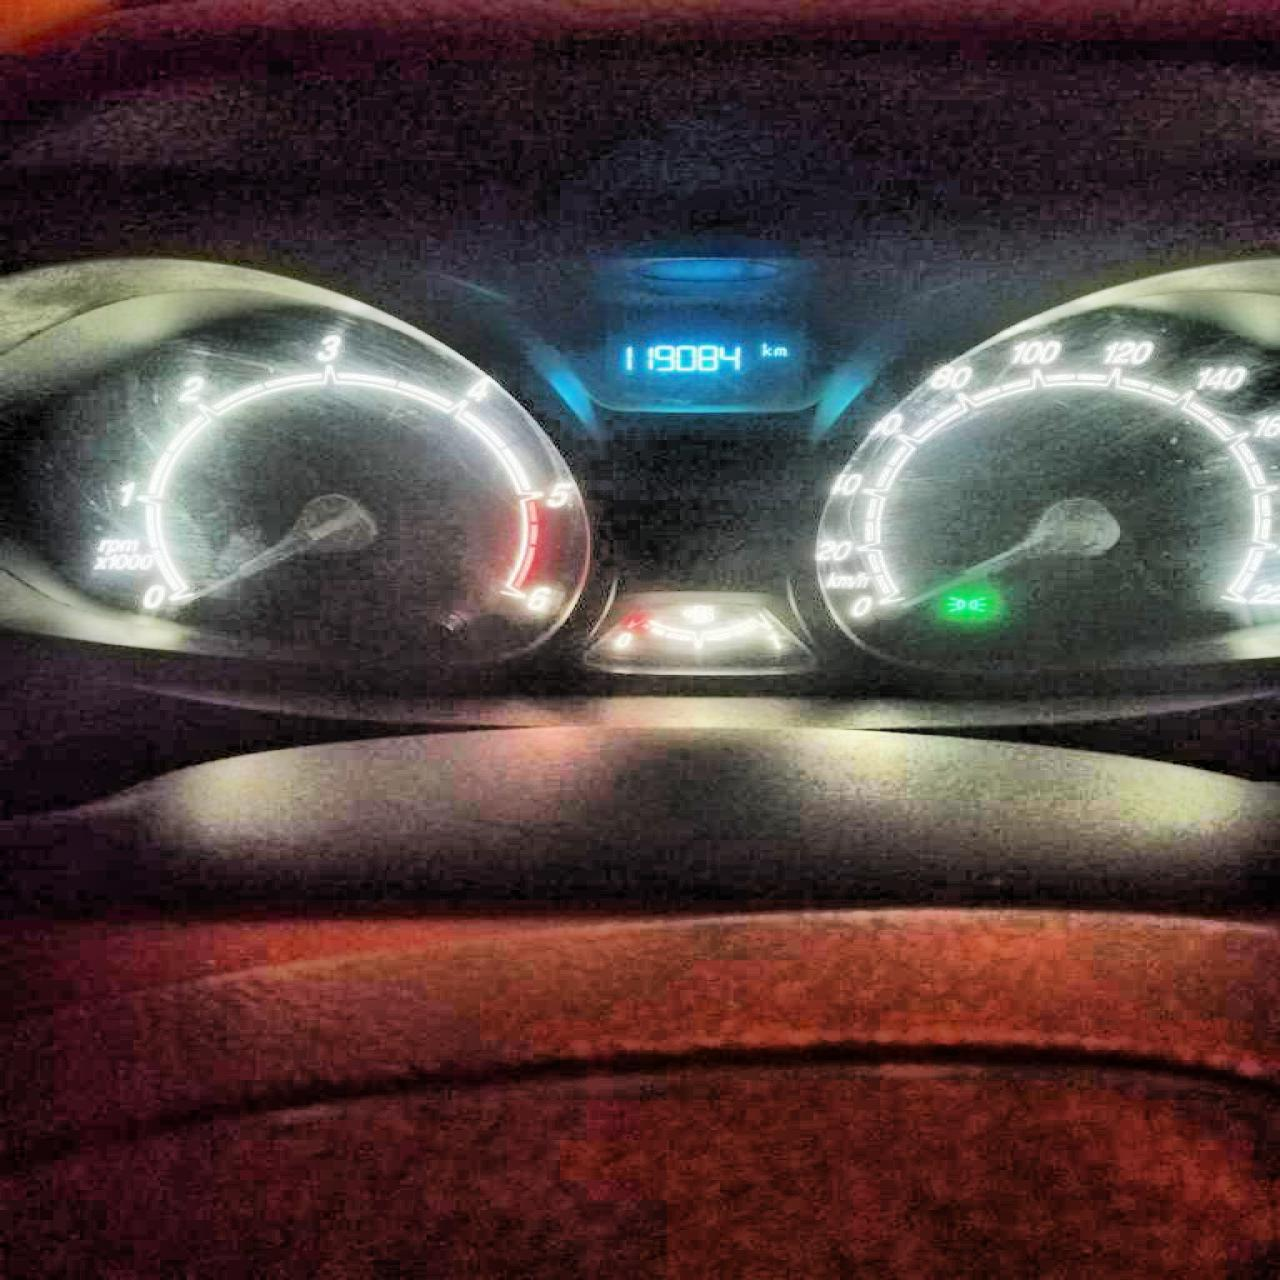0: (675, 343, 695, 372)
1: (624, 343, 633, 374), (645, 342, 653, 373)
4: (719, 345, 742, 370)
8: (696, 343, 716, 370)
9: (654, 343, 674, 370)
X: (771, 345, 785, 356), (760, 341, 770, 356)
odometer: (592, 324, 797, 388)
